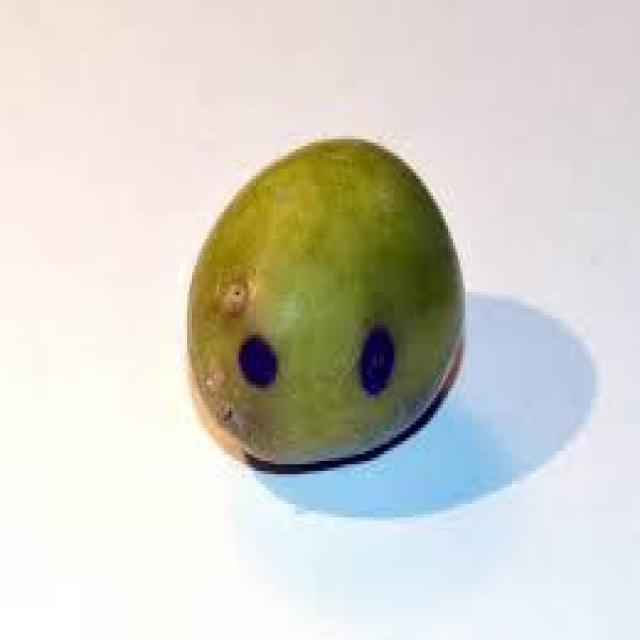Olive Fruit Fly: (187, 139, 463, 461)
